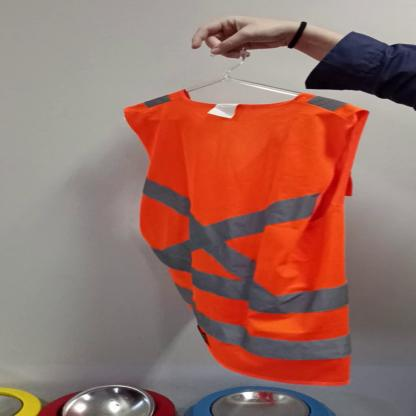colete: (123, 87, 364, 388)
